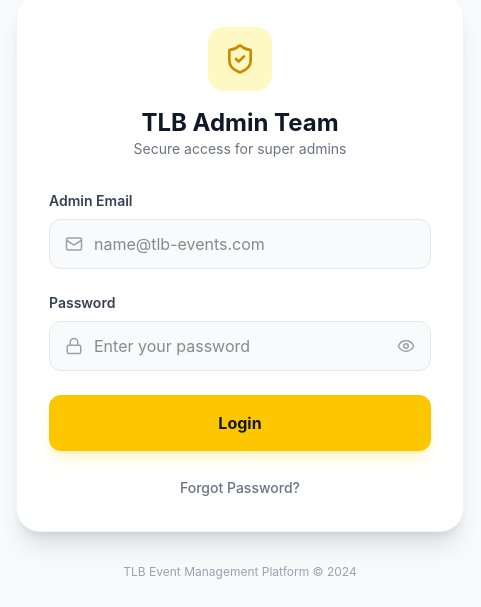
it: LoginScreen › shows an error for an invalid email format
Step 1. Type "not-an-email" into the field with placeholder "name@tlb-events.com" → (240, 244), box [49, 219, 431, 269]
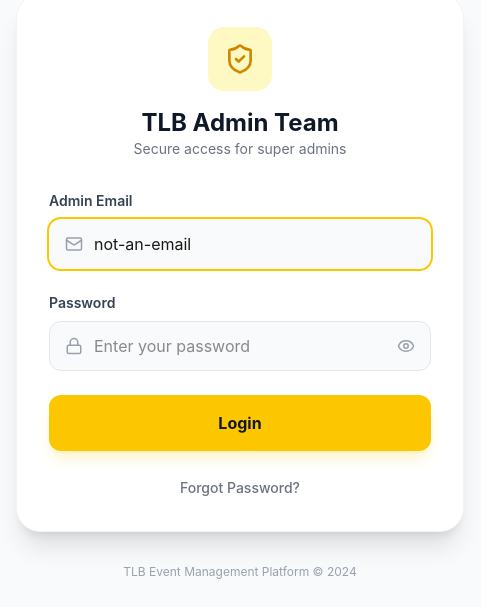
Step 2. Type "secret123" into the password field with placeholder "Enter your password" → (240, 346), box [49, 321, 431, 371]
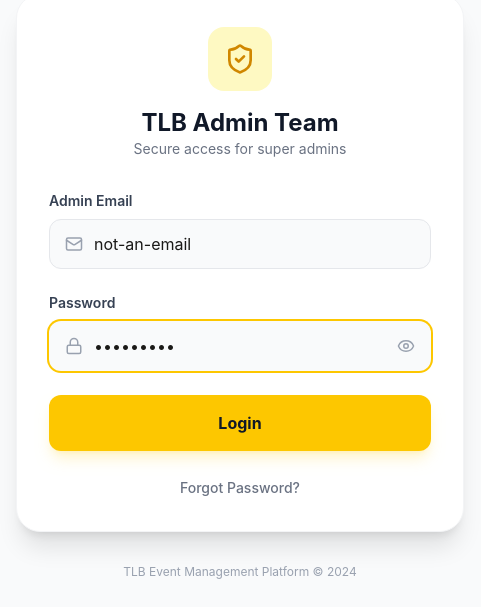
Step 3. Click the button "Login" → (240, 423), box [49, 395, 431, 451]
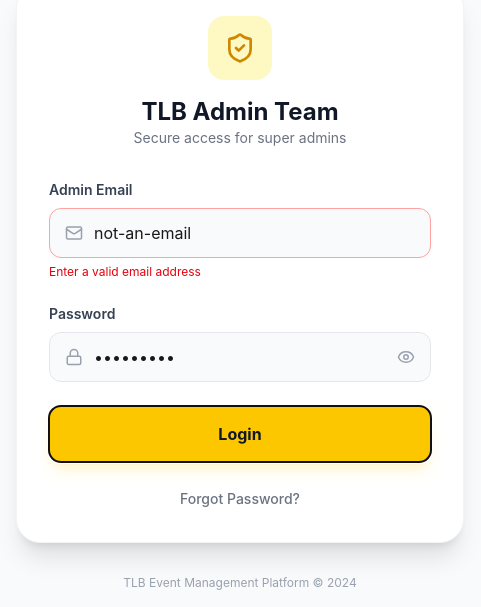
Check: the text "Enter a valid email address" is shown, box [49, 264, 201, 279]
